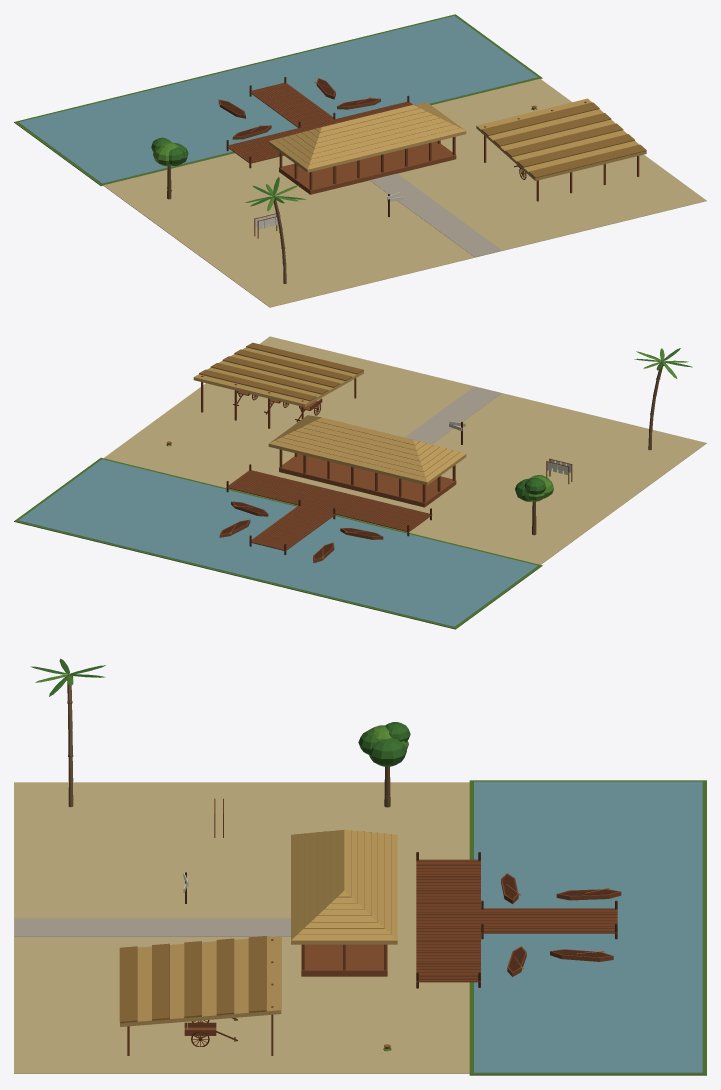
The model's file is station.glb.
3 views of the same model, one above another, from view 1: azimuth 30°, elevation 25°; view 2: azimuth 150°, elevation 25°; view 3: azimuth 270°, elevation 25° (orthographic). The views are drawn at different scales.
Visible parts, largest first — view 1: body; view 2: body; view 3: body.
Boxes of the visible parts, <box> form: body: <box>14,14,706,307</box>; body: <box>14,336,706,629</box>; body: <box>14,658,706,1075</box>.
Bounding box in the file's own units: 48.51 × 10.55 × 48.15.
